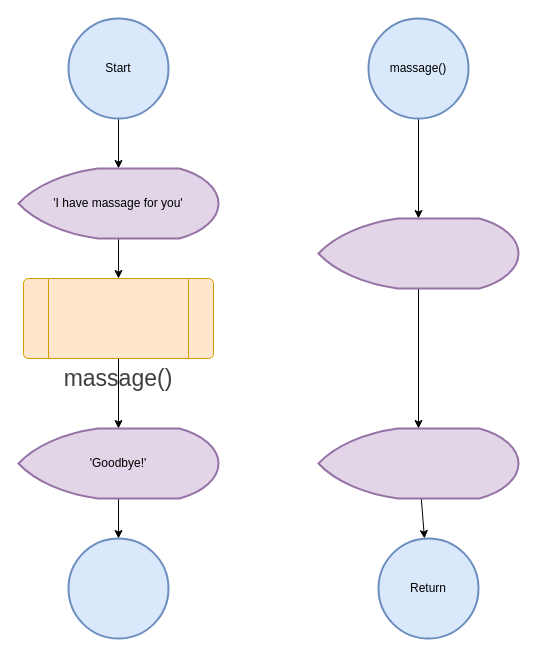
Image size: 536x656. Some labels were removed from this diagram. The box of each missing label's shape, as (x1, y1, x2, y2) in pixels:
'I am Arthur': (317, 217, 519, 289)
'King of Britons': (317, 427, 519, 499)
Stop: (67, 537, 169, 639)
